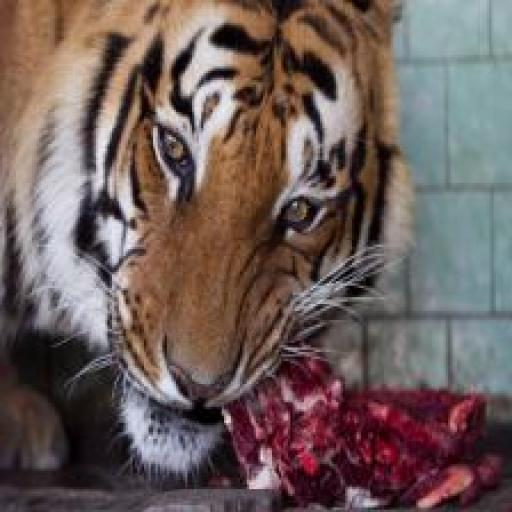Tiger: (0, 4, 511, 512)
